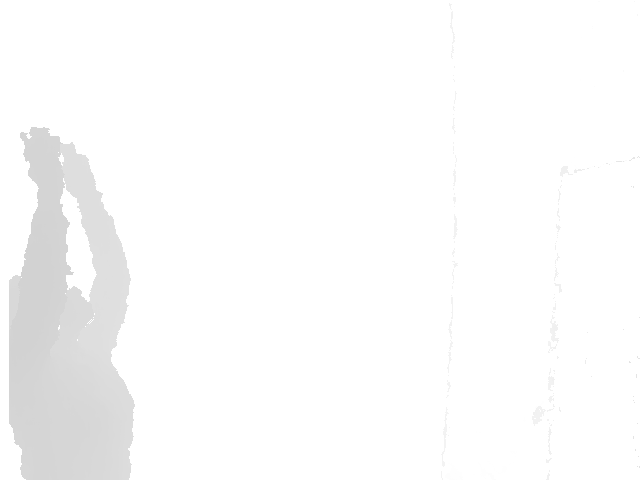hand: (19, 124, 66, 196), (58, 142, 103, 200)
head: (8, 273, 96, 344)
person: (8, 125, 137, 479)
